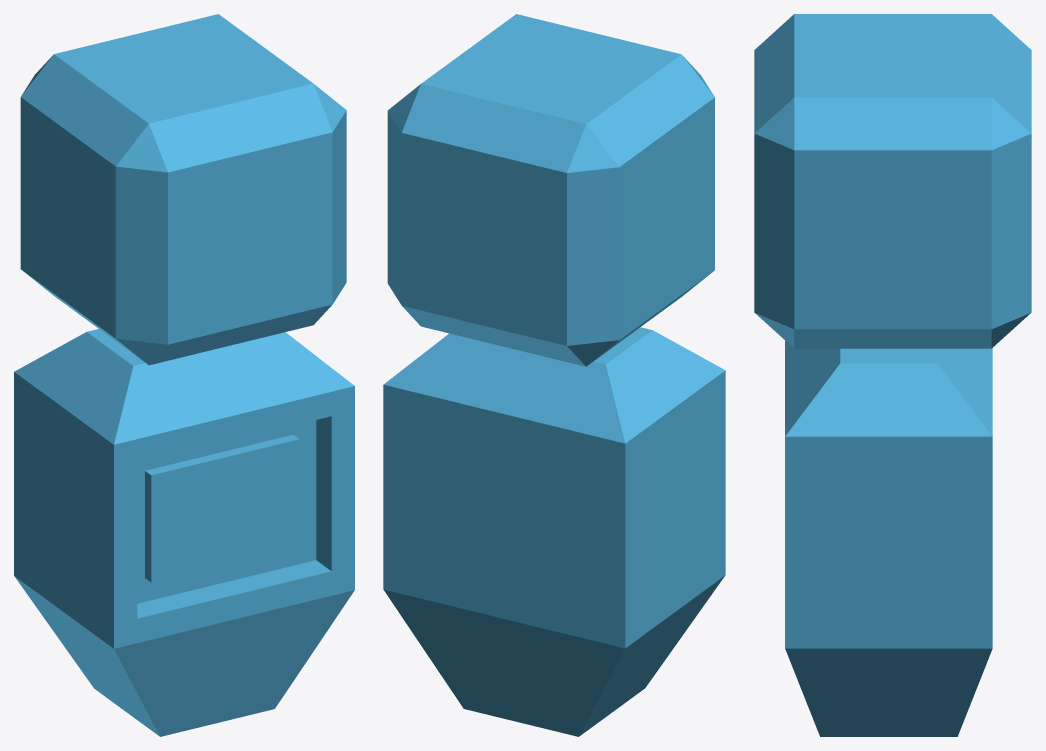
Rendered from ValBody.fbx.
The picture shows the model from 3 angles, left to right: view 1: azimuth 30°, elevation 25°; view 2: azimuth 150°, elevation 25°; view 3: azimuth 270°, elevation 25°; orthographic projection. The views are drawn at different scales.
Parts seen in each view (by area): view 1: PapuBot; view 2: PapuBot; view 3: PapuBot.
Boxes of the visible parts, x1,y1,x2,y2 form: PapuBot: (14, 14, 354, 736); PapuBot: (383, 14, 725, 736); PapuBot: (754, 14, 1031, 736).
Bounding box in the file's own units: 200 × 498 × 192.
